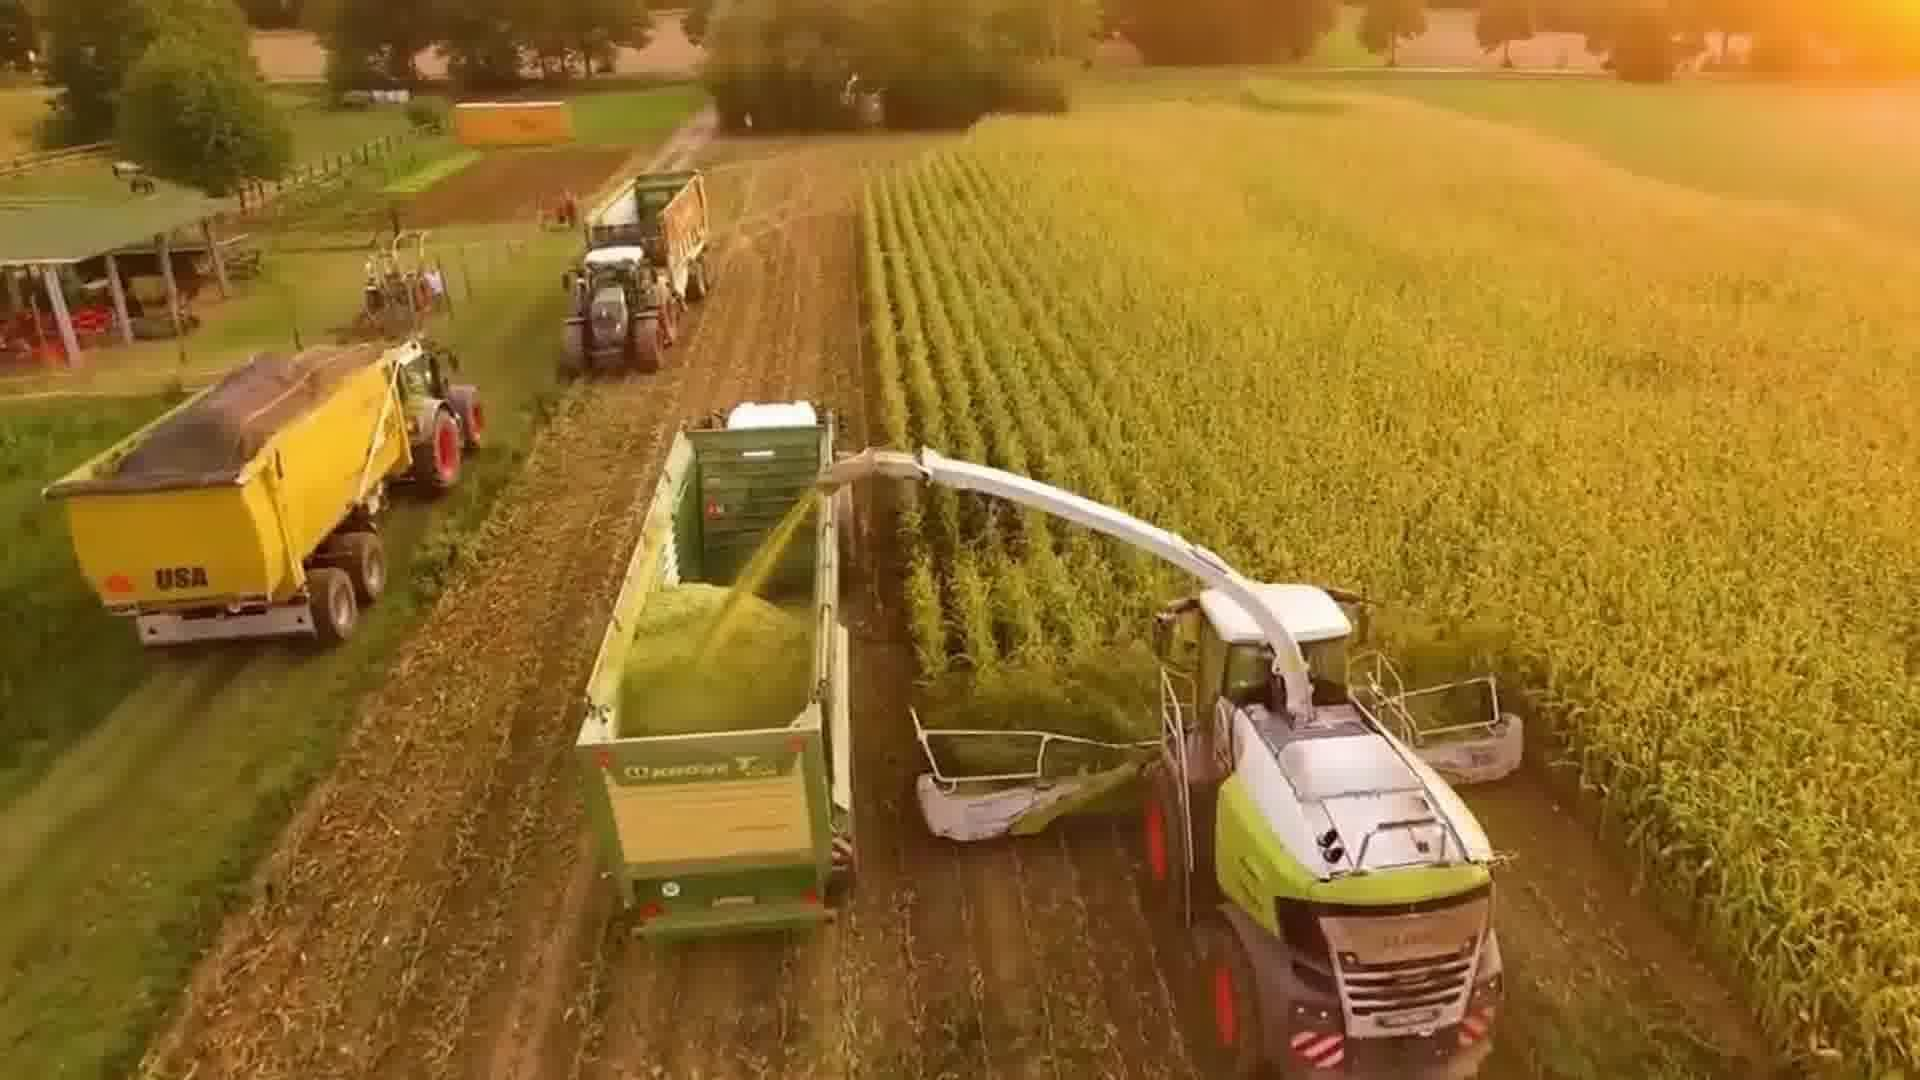combine harvester: (819, 430, 1545, 1080)
tractor: (553, 240, 683, 384), (376, 336, 491, 496), (696, 390, 831, 447)
trailer: (564, 415, 868, 960), (34, 340, 415, 663), (583, 166, 724, 305)
